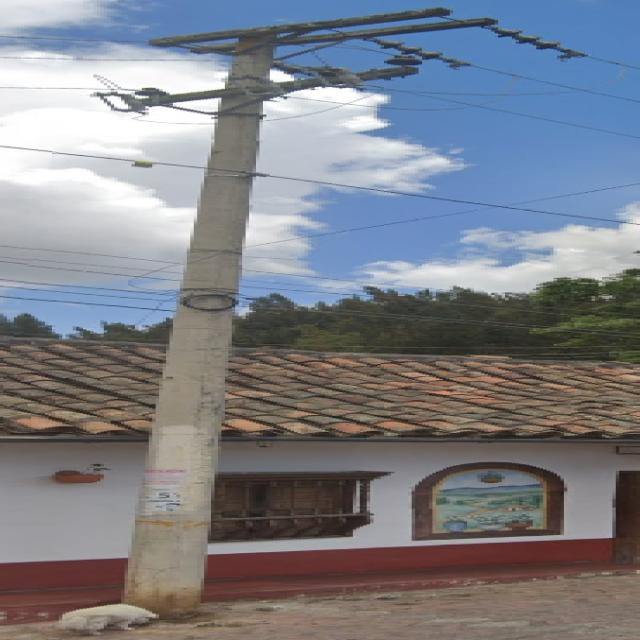Fachada: (208, 349, 637, 576), (0, 339, 159, 590)
Poste: (121, 8, 581, 616)
